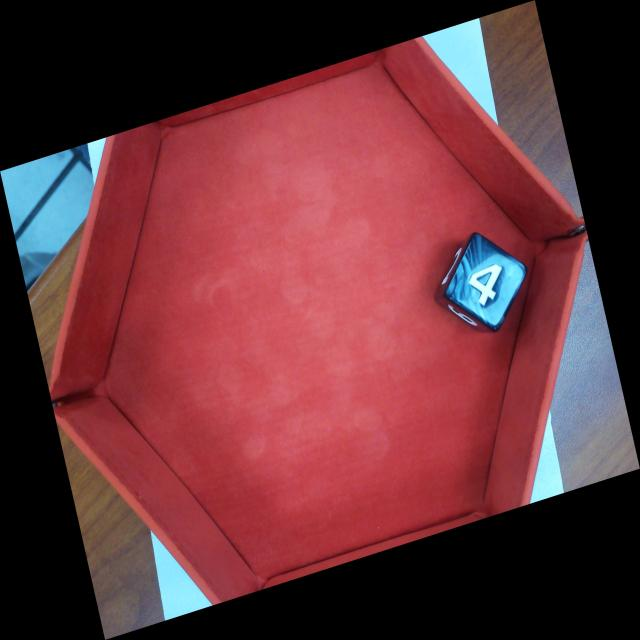dice: (442, 230, 530, 334)
